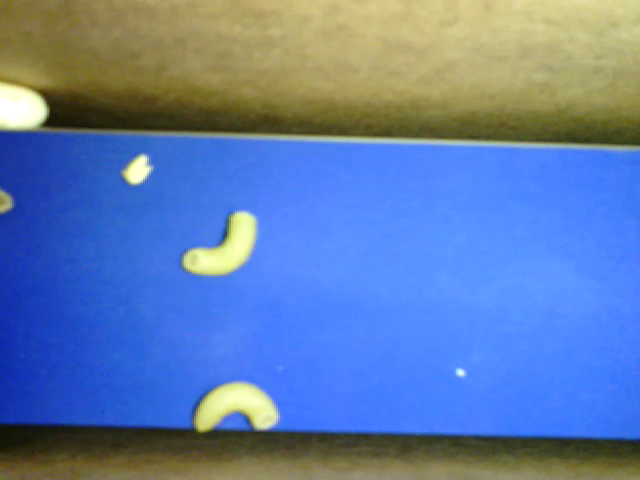elbow: (183, 209, 257, 277), (194, 380, 280, 433)
